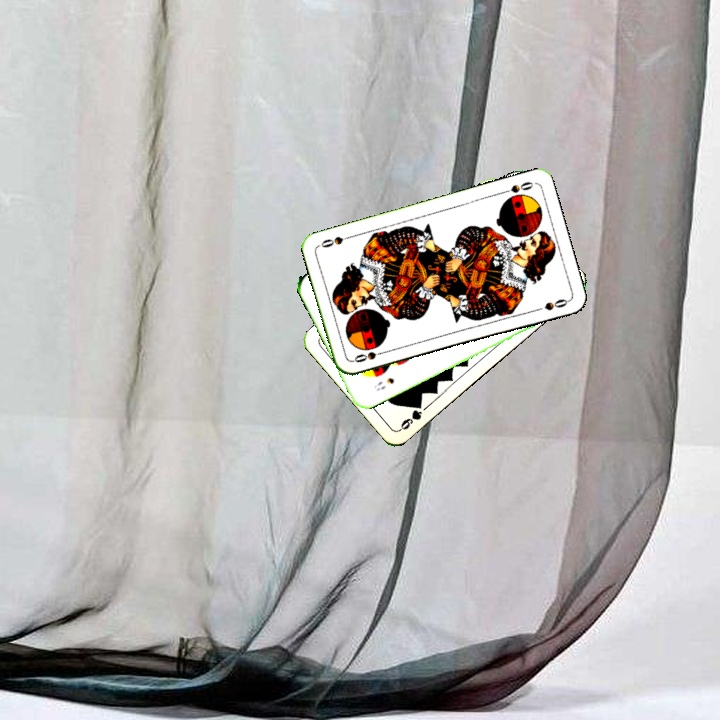G9: (395, 398, 425, 433)
S8: (370, 373, 397, 394)
SO: (497, 177, 536, 197), (349, 347, 389, 365)
